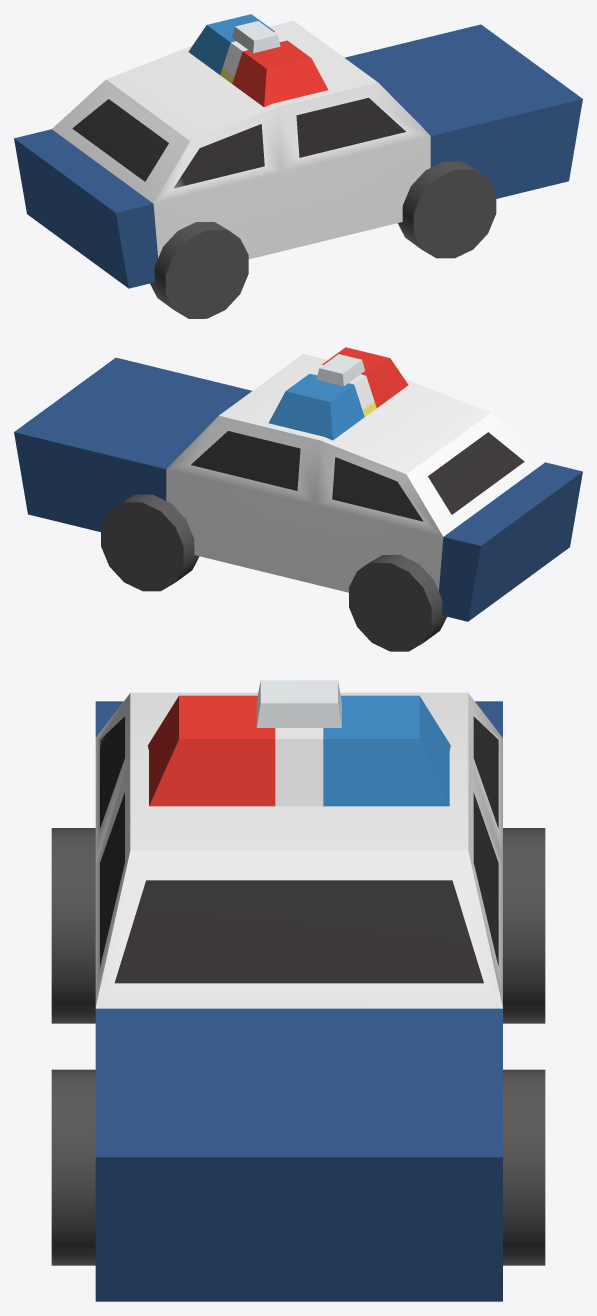
The model's file is xecanhsat.fbx.
3 views of the same model, one above another, from view 1: azimuth 30°, elevation 25°; view 2: azimuth 150°, elevation 25°; view 3: azimuth 270°, elevation 25° (orthographic). The views are drawn at different scales.
Parts seen in each view (by area): view 1: xe_canh_sat; view 2: xe_canh_sat; view 3: xe_canh_sat.
Boxes of the visible parts, bbox=[...] form: xe_canh_sat: bbox=[14, 14, 582, 318]; xe_canh_sat: bbox=[14, 347, 582, 651]; xe_canh_sat: bbox=[51, 680, 545, 1301].
Size of the model in its own units: 415 by 183 by 190.
